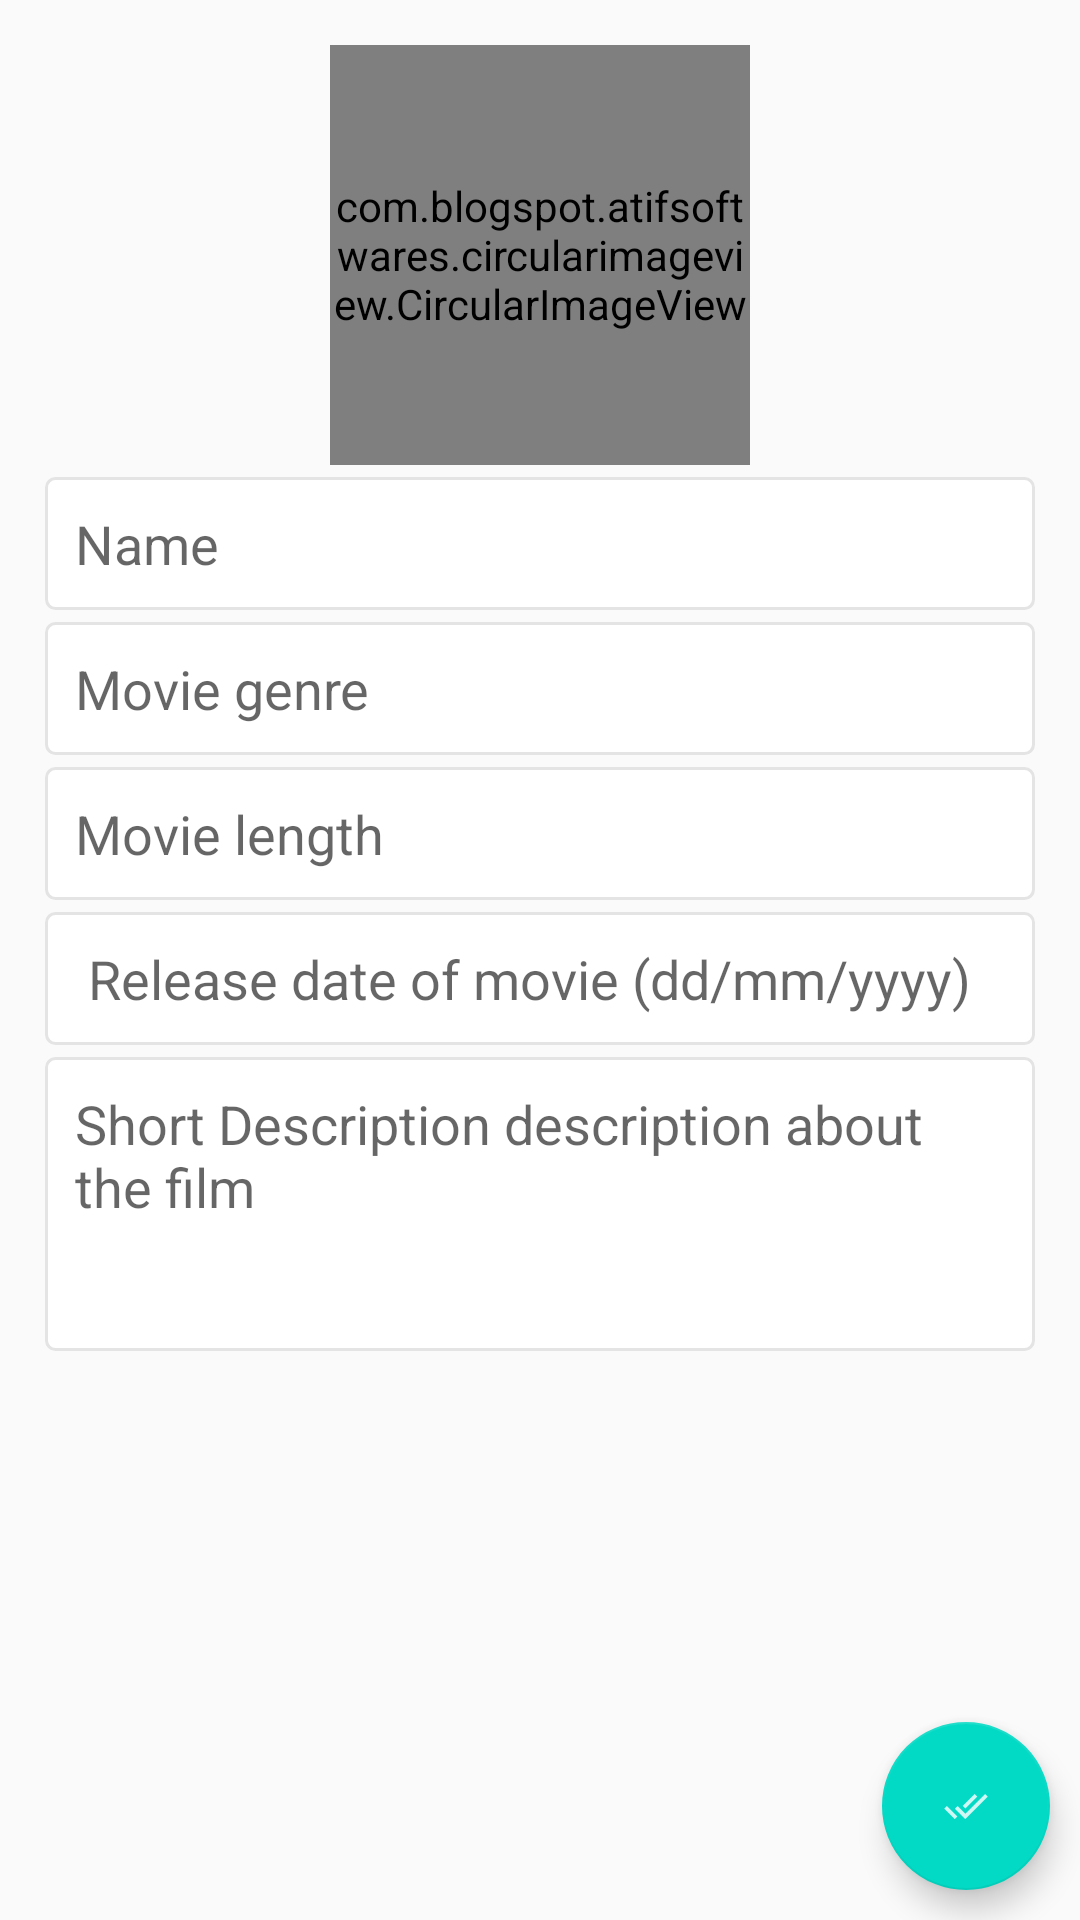

Point at icon controls on the screen. Image size 1080 × 1920, points as (x,y).
done: (966,1806)
